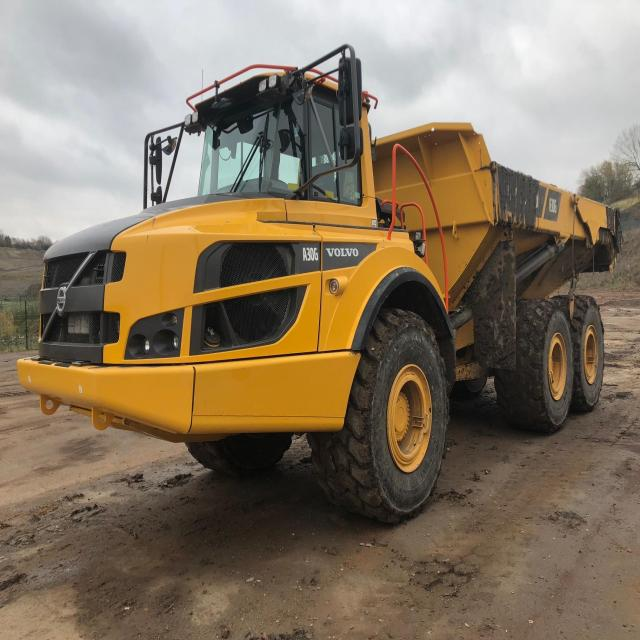dump_truck: (30, 53, 624, 516)
